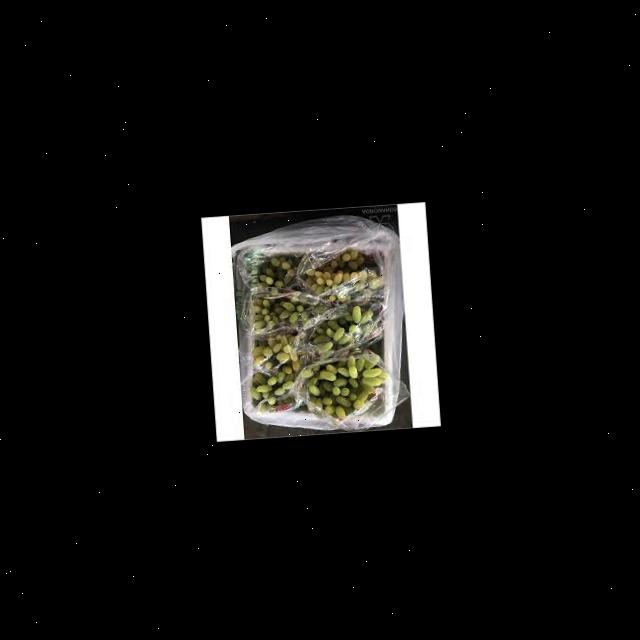grape: (240, 246, 393, 424)
